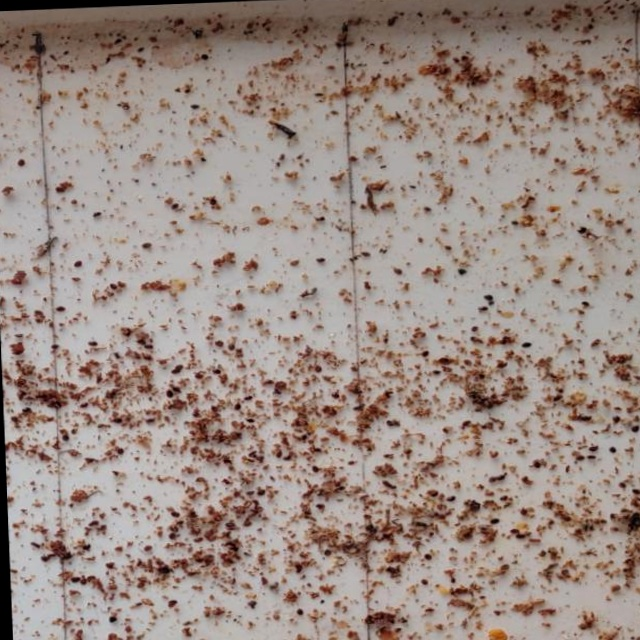varroa: (471, 303, 487, 311), (188, 369, 201, 378), (258, 374, 271, 383), (378, 564, 392, 572), (69, 254, 80, 264), (110, 443, 122, 452), (63, 572, 76, 580), (465, 335, 478, 343), (33, 550, 44, 559), (288, 605, 299, 614), (218, 455, 229, 464), (415, 348, 426, 357), (55, 549, 69, 556), (72, 397, 86, 404), (354, 249, 368, 256), (55, 430, 67, 438), (75, 539, 88, 546), (425, 488, 438, 495), (555, 516, 568, 523), (160, 386, 170, 395), (206, 194, 215, 204), (102, 611, 113, 619), (442, 494, 453, 502), (210, 337, 221, 345), (325, 389, 336, 397), (389, 267, 400, 275), (137, 542, 149, 549), (164, 508, 176, 515), (140, 340, 152, 347), (82, 336, 94, 343), (276, 452, 288, 459), (240, 415, 252, 422), (456, 419, 468, 426), (516, 341, 528, 348), (310, 255, 322, 262), (138, 238, 150, 245), (513, 506, 522, 515), (228, 399, 237, 408), (186, 407, 195, 416), (467, 324, 476, 333), (607, 414, 616, 423), (626, 425, 635, 434), (166, 198, 175, 207), (413, 577, 423, 585), (418, 551, 428, 559), (493, 563, 503, 571), (104, 279, 114, 287), (188, 533, 201, 539), (238, 488, 251, 494), (493, 493, 506, 499), (238, 392, 251, 398), (135, 595, 146, 602), (485, 517, 496, 524), (166, 382, 177, 389), (166, 365, 177, 372), (290, 559, 298, 568), (99, 560, 111, 566), (131, 578, 140, 586), (163, 529, 172, 537), (218, 520, 230, 526), (509, 533, 521, 539), (568, 454, 580, 460), (624, 489, 636, 495), (140, 414, 152, 420), (170, 360, 182, 366), (207, 365, 219, 371), (309, 363, 318, 371), (453, 268, 465, 274), (241, 597, 251, 604), (491, 473, 501, 480), (583, 445, 593, 452), (205, 402, 215, 409), (576, 415, 586, 422), (154, 564, 165, 570), (17, 403, 28, 409), (251, 453, 262, 459), (433, 356, 444, 362), (208, 513, 221, 518), (528, 460, 536, 468), (223, 340, 231, 348), (306, 463, 314, 471), (381, 418, 389, 426), (199, 50, 207, 58), (15, 154, 23, 162), (150, 528, 159, 535), (484, 475, 491, 484), (504, 527, 513, 534), (602, 447, 611, 454), (30, 305, 39, 312), (271, 447, 278, 456), (429, 368, 438, 375), (161, 596, 173, 601), (251, 487, 261, 493), (237, 518, 247, 524), (46, 340, 56, 346), (480, 294, 490, 300), (283, 259, 295, 264), (319, 546, 326, 554), (613, 482, 621, 489), (473, 372, 481, 379), (132, 335, 141, 341), (53, 302, 62, 308), (546, 395, 555, 401), (577, 302, 586, 308), (107, 544, 120, 548), (108, 415, 118, 420), (576, 227, 583, 234), (552, 388, 560, 393)
